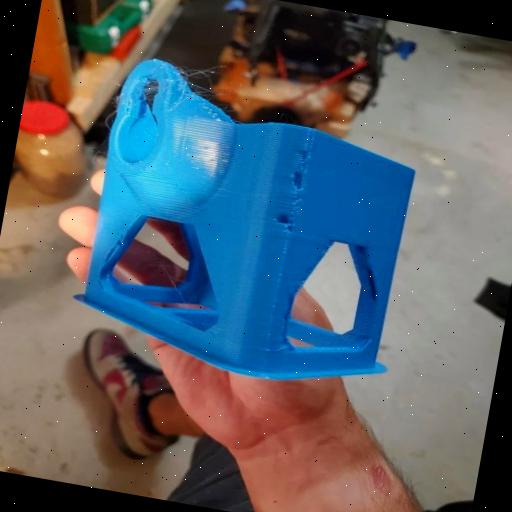cracks: (267, 136, 318, 238)
stringing: (93, 34, 234, 149)
